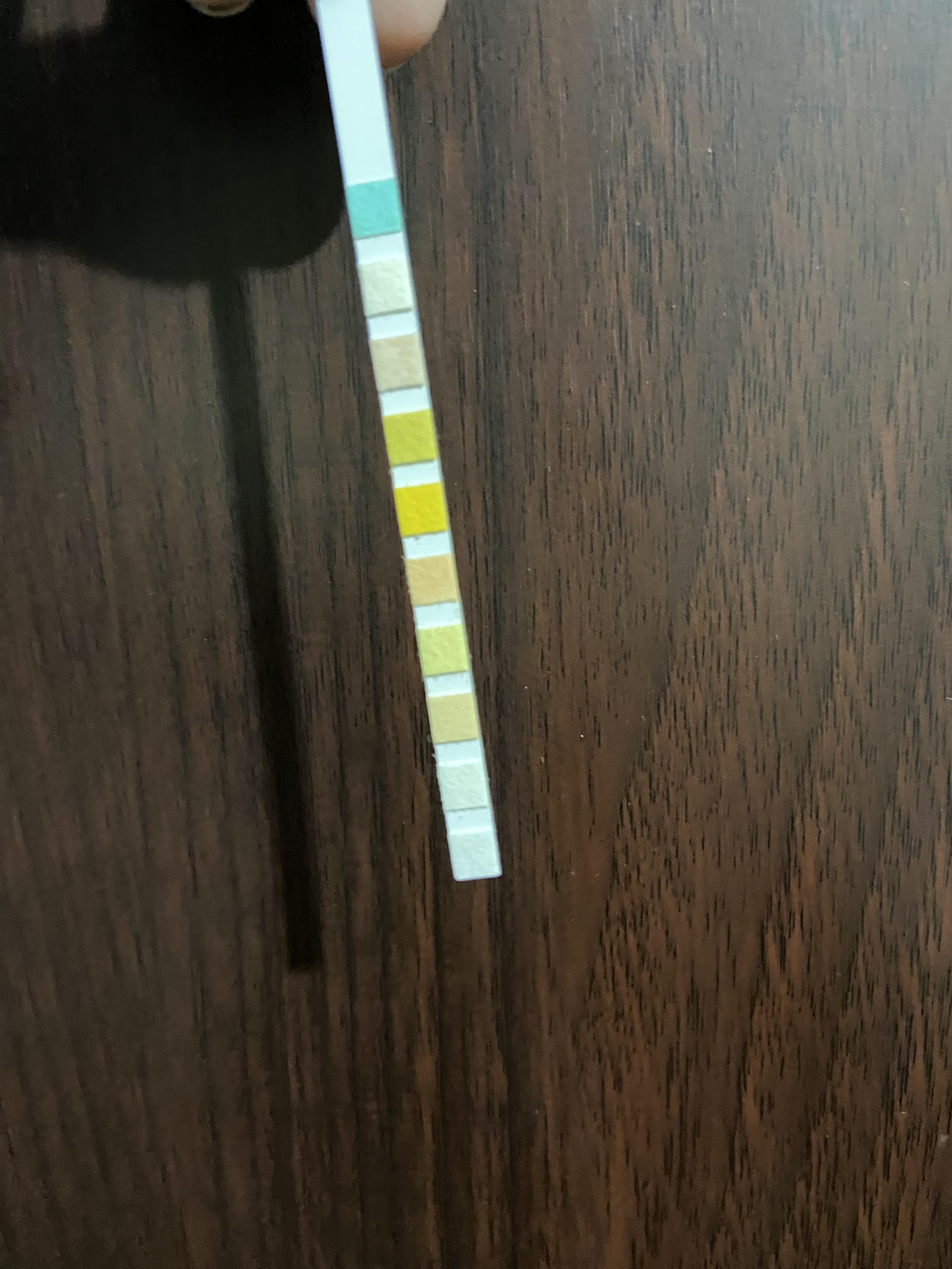Bilirubin: (367, 268, 403, 307)
Blood: (402, 492, 438, 529)
Glucose: (355, 189, 394, 227)
Ketone: (379, 343, 416, 382)
Leukocytes: (455, 836, 490, 874)
Nitrite: (444, 768, 479, 803)
Protein: (426, 634, 458, 667)
SpGravity: (390, 419, 428, 457)
Urobilinogen: (437, 702, 470, 736)
pH: (417, 562, 450, 597)
strip: (320, 2, 501, 884)
